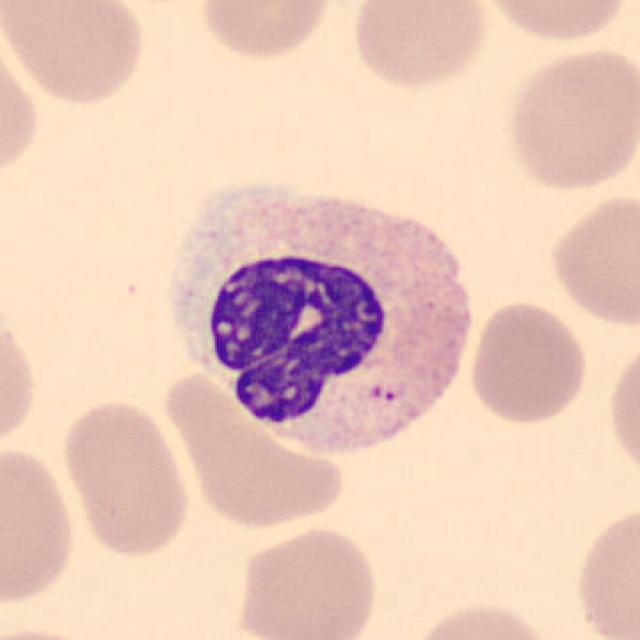Neutrophil: (169, 173, 485, 472)
RBC: (158, 363, 350, 534), (57, 393, 194, 561), (502, 42, 638, 196), (231, 522, 382, 640), (464, 296, 592, 428), (1, 0, 151, 109), (0, 439, 80, 610), (346, 0, 490, 93), (544, 188, 638, 329), (569, 499, 640, 640), (194, 0, 336, 65), (475, 0, 633, 48), (0, 28, 44, 186), (406, 596, 558, 640), (0, 306, 41, 456), (604, 335, 640, 485), (0, 624, 116, 640)
